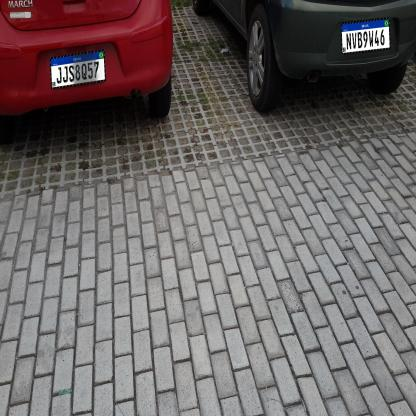PlacaM: (50, 49, 106, 89), (340, 17, 390, 55)
